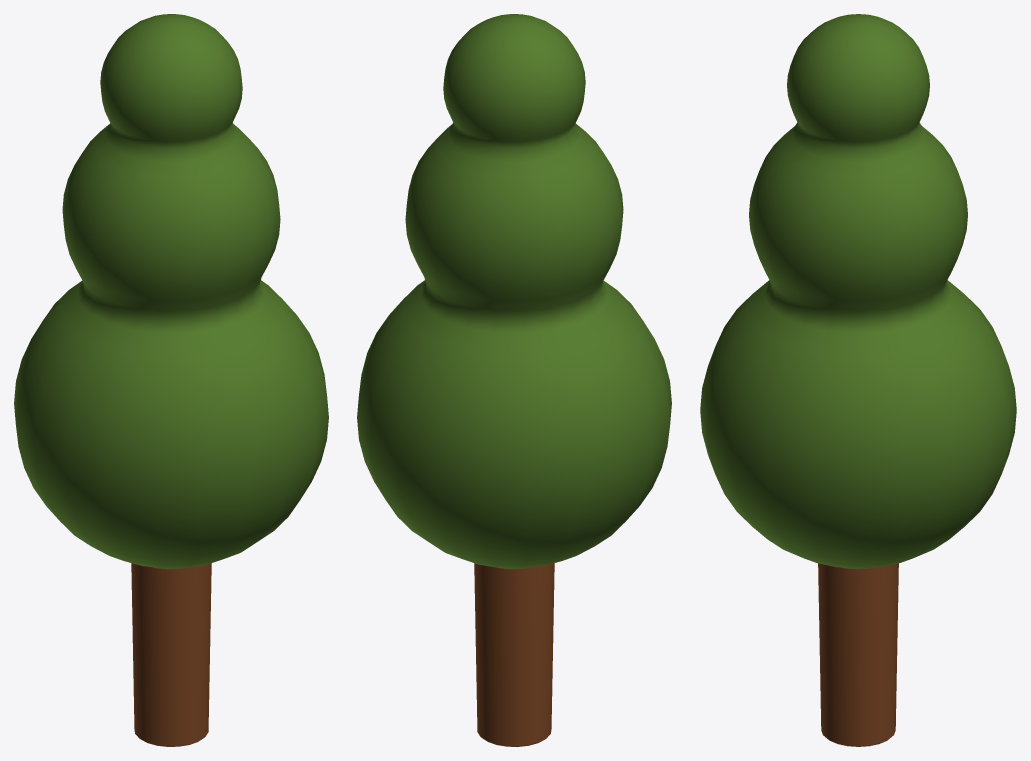
The model's file is tree10.glb.
The picture shows the model from 3 angles, left to right: view 1: azimuth 30°, elevation 25°; view 2: azimuth 150°, elevation 25°; view 3: azimuth 270°, elevation 25°; orthographic projection.
Visible parts, largest first — view 1: node_id172; view 2: node_id172; view 3: node_id172.
Part boxes in pixels (box(x1,y1,x2,y2)): node_id172: box(14, 14, 328, 746); node_id172: box(357, 14, 671, 746); node_id172: box(700, 14, 1016, 746).
Size of the model in its own units: 0.2065 by 0.512 by 0.2065.
1 material, 1 textured.
